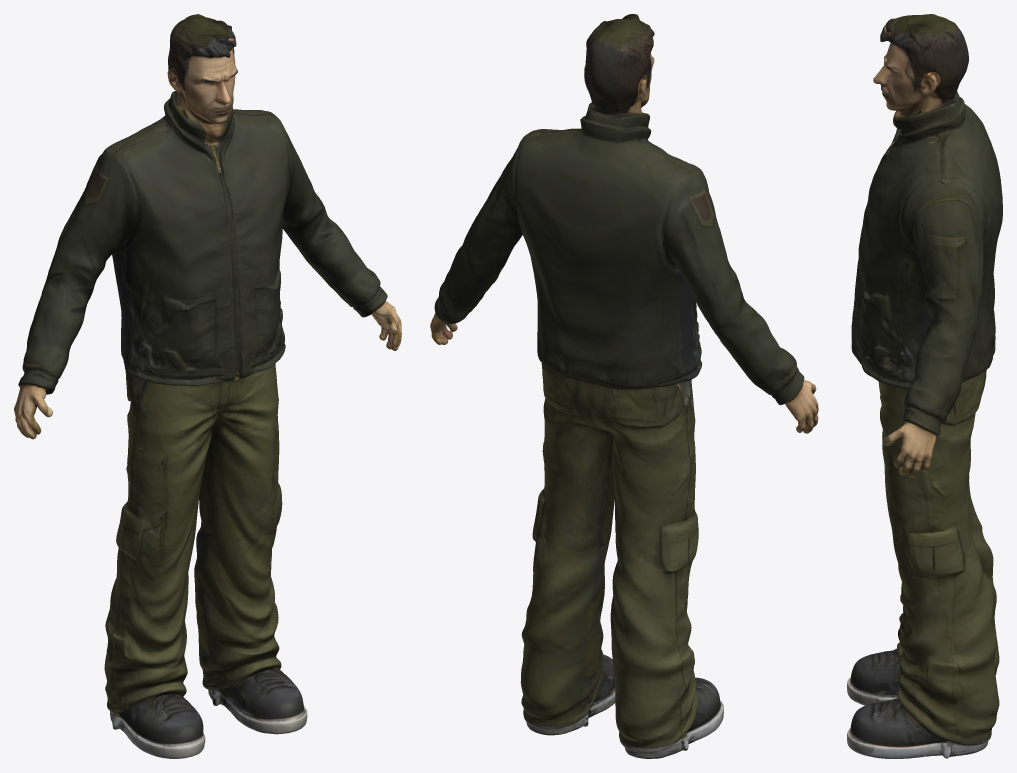
File: character.glb
3 renders of one model, left to right at view 1: azimuth 30°, elevation 25°; view 2: azimuth 150°, elevation 25°; view 3: azimuth 270°, elevation 25°, orthographic.
Visible parts, largest first — view 1: Object_5, Object_4, Object_6, Object_7; view 2: Object_4, Object_6, Object_5, Object_7; view 3: Object_5, Object_6, Object_4, Object_7.
Boxes of the visible parts, x1,y1,x2,y2 form: Object_5: (16,18,401,758); Object_4: (14,15,394,758); Object_6: (21,14,401,748); Object_7: (14,17,392,729); Object_4: (441,14,818,758); Object_6: (438,14,817,751); Object_5: (430,19,818,750); Object_7: (430,19,816,758); Object_5: (847,15,1001,758); Object_6: (881,16,1002,758); Object_4: (847,14,1002,758); Object_7: (902,18,1002,758).
Size of the model in its own units: 1.09 by 1.9 by 0.3819.
Materials: 1 (1 with a texture image).
